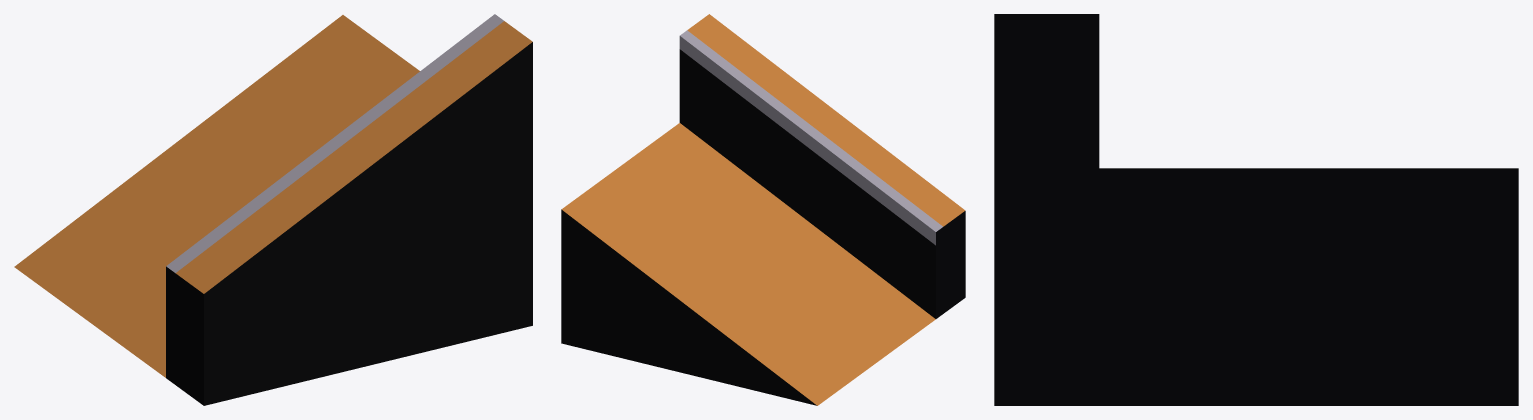
Rendered from Ledge_Ramp_SML_R.obj.
3 renders of one model, left to right at view 1: azimuth 30°, elevation 25°; view 2: azimuth 150°, elevation 25°; view 3: azimuth 270°, elevation 25°, orthographic. The views are drawn at different scales.
Visible parts, largest first — view 1: Ledge_Ramp_SML_R; view 2: Ledge_Ramp_SML_R; view 3: Ledge_Ramp_SML_R.
Part boxes in pixels (<box>): Ledge_Ramp_SML_R: <box>14,14,532,405</box>; Ledge_Ramp_SML_R: <box>561,14,965,405</box>; Ledge_Ramp_SML_R: <box>994,14,1518,405</box>.
Size of the model in its own units: 10 by 8.25 by 10.
